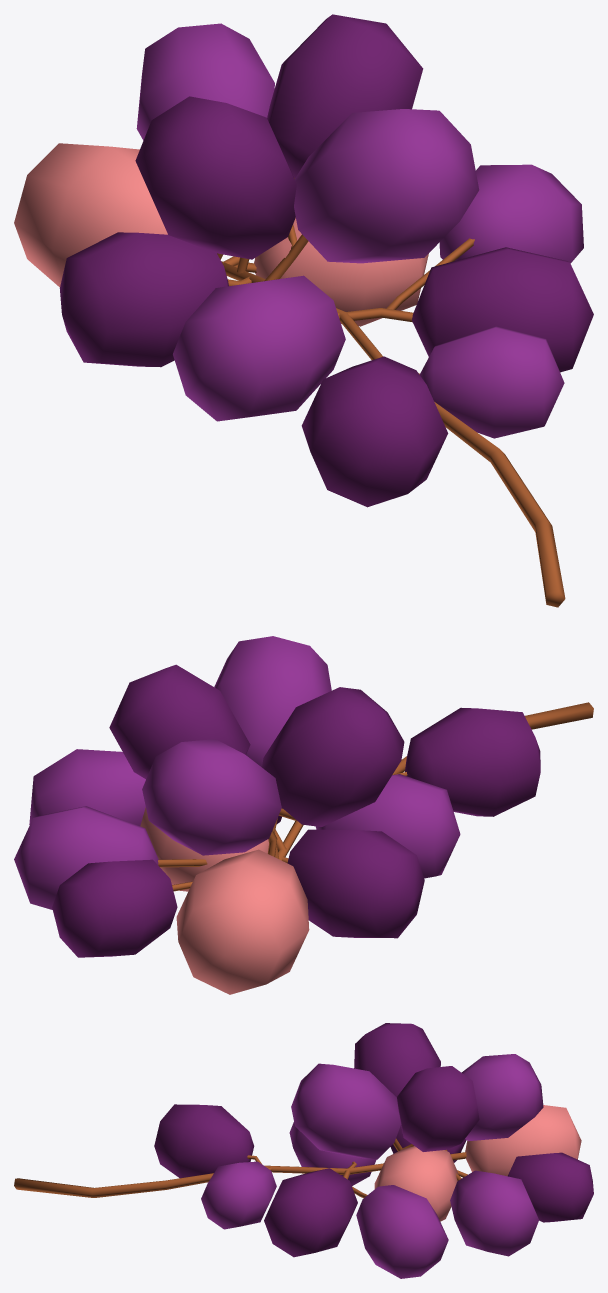
Rendered from Grapes.obj.
The picture shows the model from 3 angles, top to bottom: view 1: azimuth 30°, elevation 25°; view 2: azimuth 150°, elevation 25°; view 3: azimuth 270°, elevation 25°; orthographic projection. The views are drawn at different scales.
Visible parts, largest first — view 1: Grapes; view 2: Grapes; view 3: Grapes.
Boxes of the visible parts, x1=… form: Grapes: x1=14, y1=14, x2=593, y2=607; Grapes: x1=14, y1=636, x2=593, y2=994; Grapes: x1=14, y1=1023, x2=593, y2=1278.
Bounding box in the file's own units: 0.1411 × 0.078 × 0.2461.
